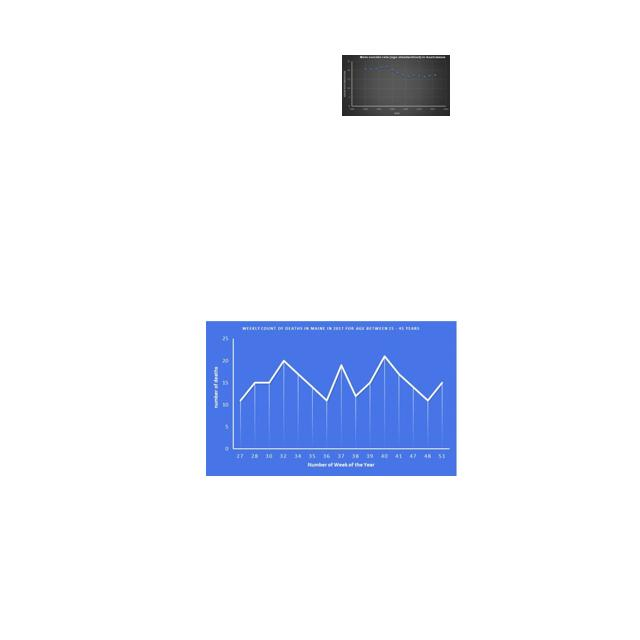Graph: (206, 321, 457, 476), (342, 55, 450, 116)
